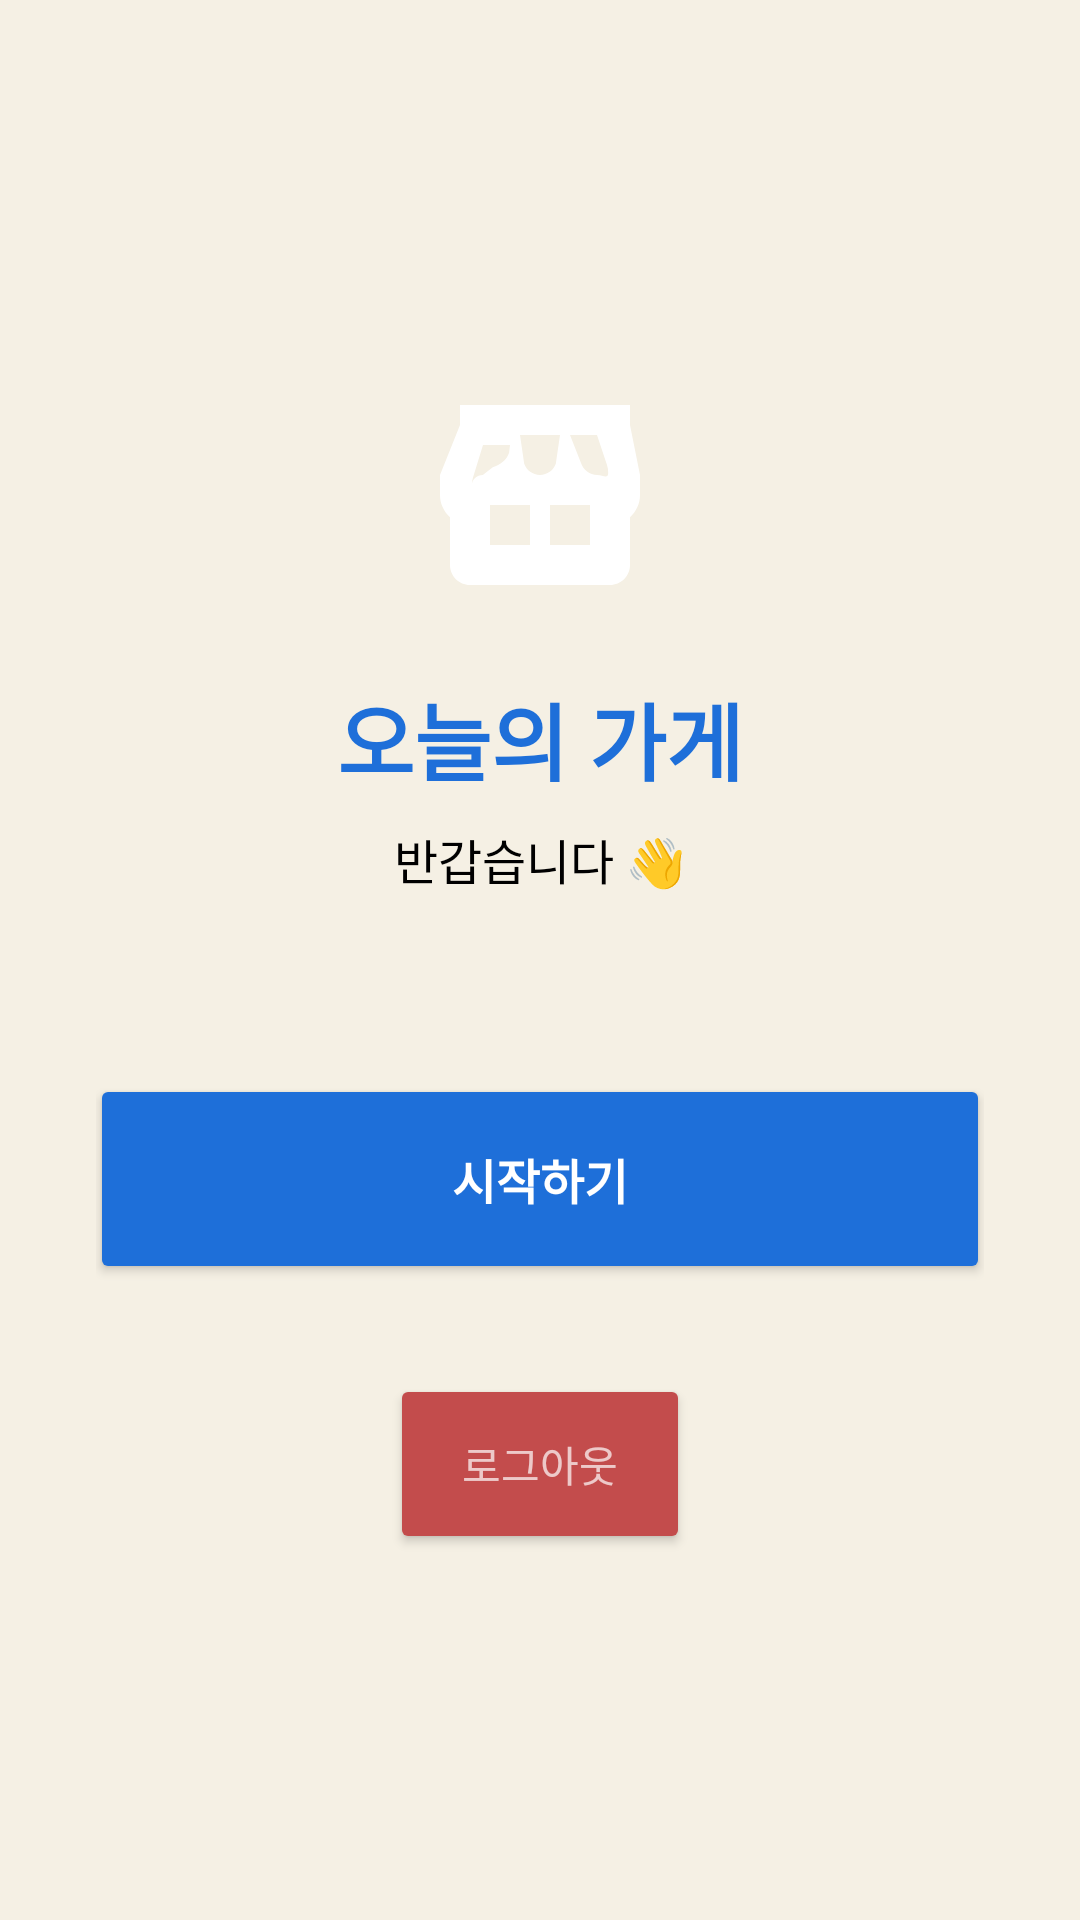

Icons on this 1080w x 1920h Android screen, each with its box as (x1, y1, x2, y2):
store: (440, 405, 640, 585)
